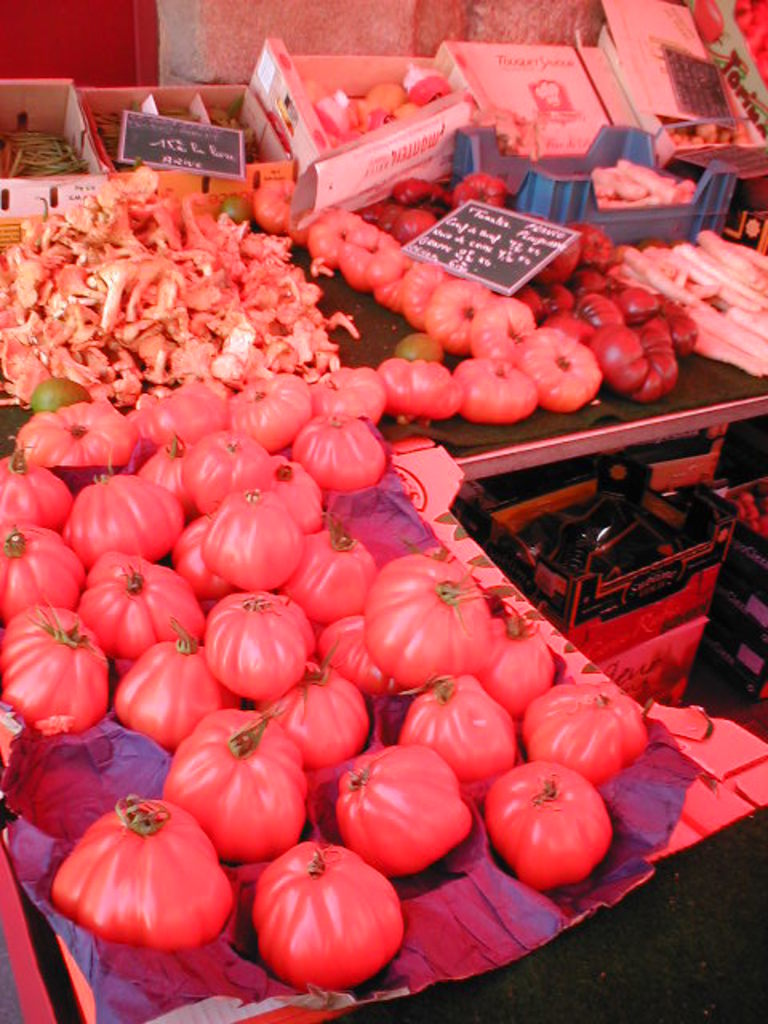Tomato: (0, 196, 692, 992), (480, 768, 604, 896)
